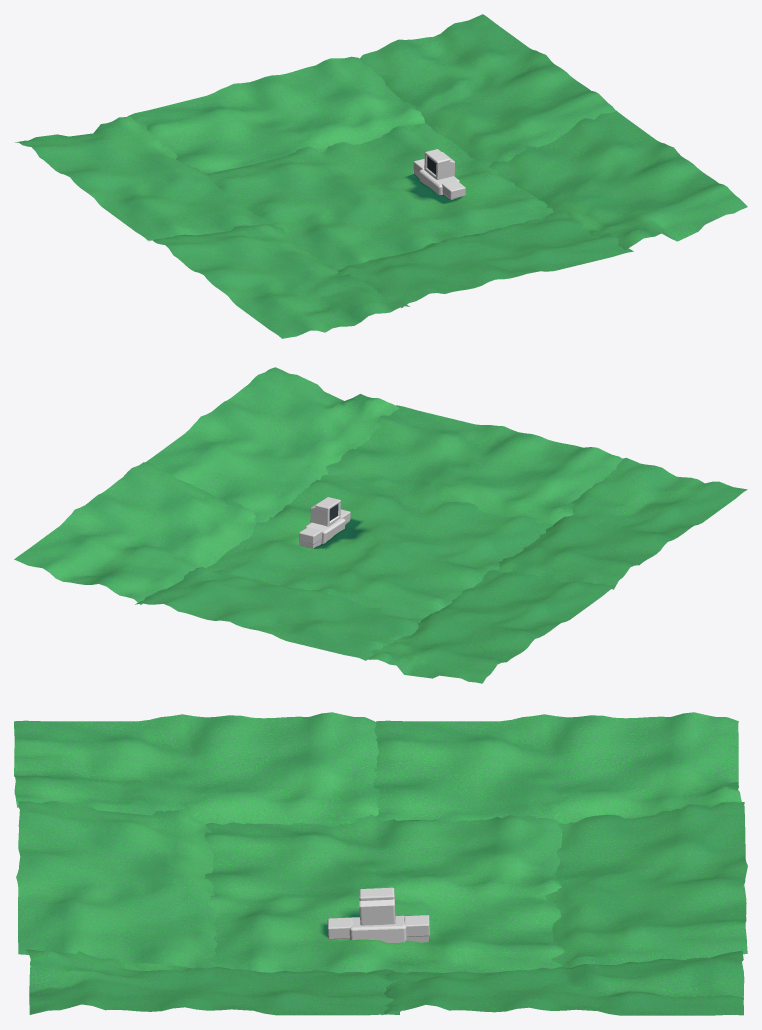
File: GrassWorldNew.fbx
3 views of the same model, one above another, from view 1: azimuth 30°, elevation 25°; view 2: azimuth 150°, elevation 25°; view 3: azimuth 270°, elevation 25° (orthographic). The views are drawn at different scales.
Visible parts, largest first — view 1: Grassplane.003, Grassplane, Cube.001; view 2: Grassplane.003, Grassplane, Cube.001; view 3: Grassplane.003, Grassplane, Cube.001, Cube, Cube.003, Cube.004.
Boxes of the visible parts, x1=… form: Grassplane.003: x1=15, y1=14, x2=747, y2=338; Grassplane: x1=206, y1=123, x2=553, y2=270; Cube.001: x1=424, y1=149, x2=454, y2=179; Grassplane.003: x1=14, y1=367, x2=747, y2=683; Grassplane: x1=206, y1=472, x2=552, y2=618; Cube.001: x1=310, y1=497, x2=340, y2=526; Grassplane.003: x1=14, y1=712, x2=747, y2=1015; Grassplane: x1=204, y1=814, x2=564, y2=973; Cube.001: x1=359, y1=887, x2=395, y2=925; Cube: x1=349, y1=915, x2=406, y2=942; Cube.003: x1=404, y1=915, x2=429, y2=942; Cube.004: x1=327, y1=917, x2=352, y2=939.
Bounding box in the file's own units: 27455 × 2518 × 27270.
Materials: 11 (8 with a texture image).
